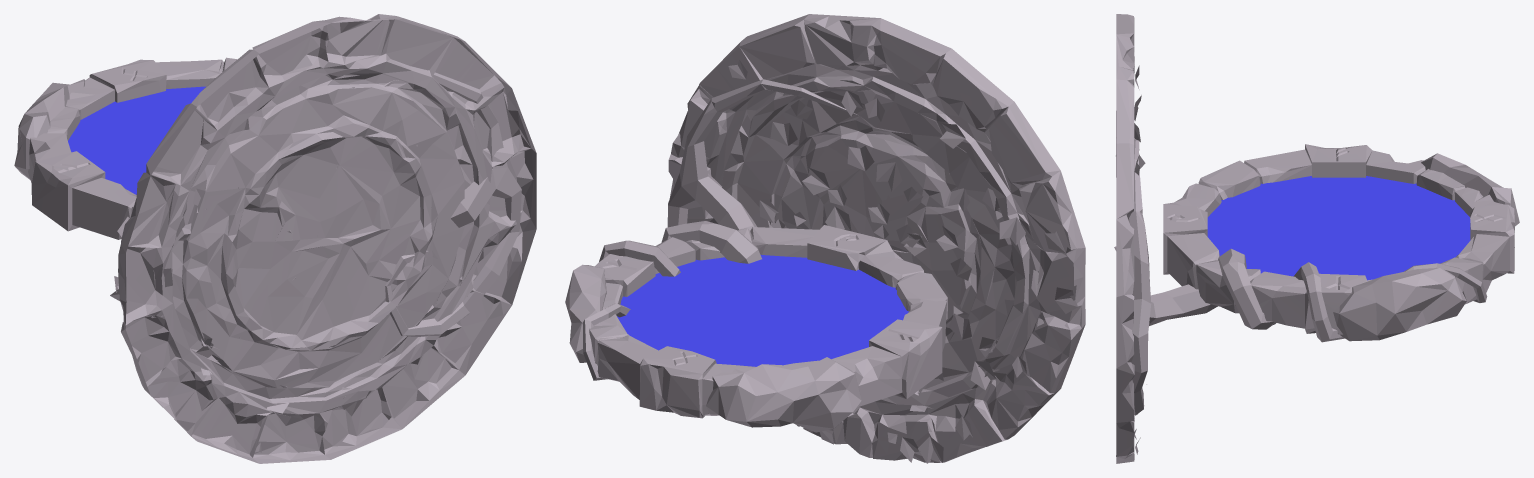
The model's file is Portal_01-col.gltf.
3 views of the same model, side by side, from view 1: azimuth 30°, elevation 25°; view 2: azimuth 150°, elevation 25°; view 3: azimuth 270°, elevation 25° (orthographic). The views are drawn at different scales.
Visible parts, largest first — view 1: Portal_01-col, Portal_01_Hole; view 2: Portal_01-col, Portal_01_Hole; view 3: Portal_01-col, Portal_01_Hole.
Boxes of the visible parts, x1=… form: Portal_01-col: x1=14, y1=14, x2=536, y2=463; Portal_01_Hole: x1=68, y1=86, x2=205, y2=194; Portal_01-col: x1=565, y1=14, x2=1085, y2=463; Portal_01_Hole: x1=617, y1=254, x2=908, y2=366; Portal_01-col: x1=1114, y1=14, x2=1519, y2=463; Portal_01_Hole: x1=1207, y1=176, x2=1470, y2=280.
Size of the model in its own units: 2.58 by 2.59 by 2.33.
